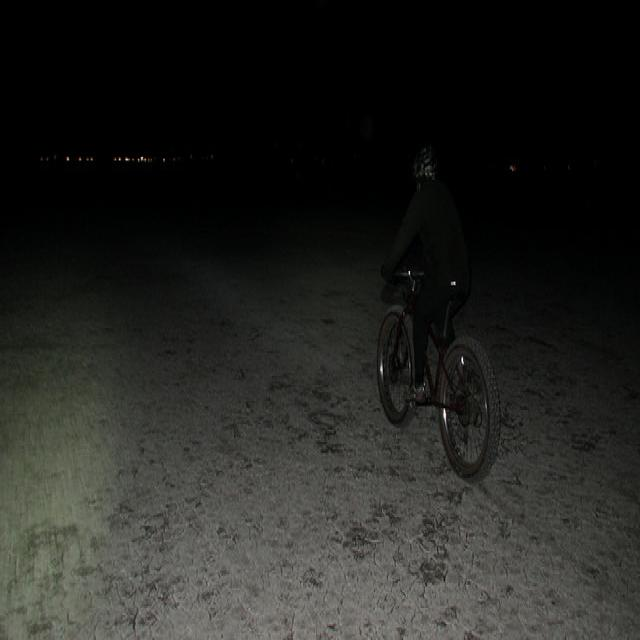Bicycle: (357, 297, 517, 497)
People: (407, 133, 461, 378)
